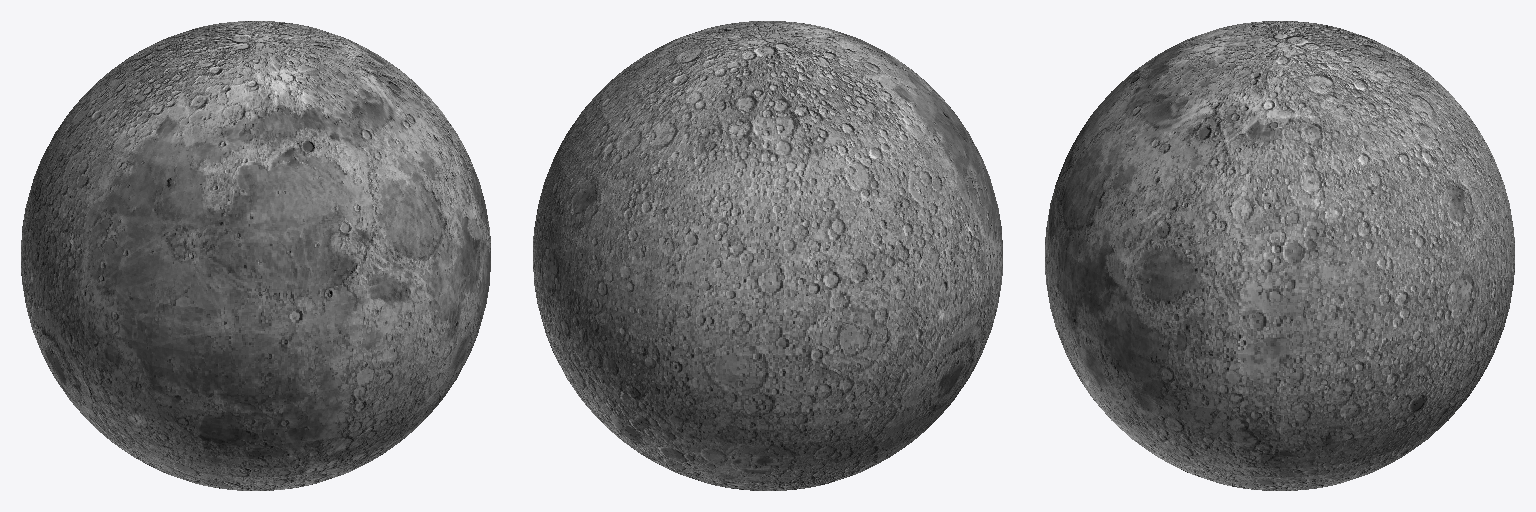
3 renders of one model, left to right at view 1: azimuth 30°, elevation 25°; view 2: azimuth 150°, elevation 25°; view 3: azimuth 270°, elevation 25°, orthographic.
Visible parts, largest first — view 1: Sphere001; view 2: Sphere001; view 3: Sphere001.
Boxes of the visible parts, x1,y1,x2,y2 form: Sphere001: [21, 21, 490, 490]; Sphere001: [533, 21, 1002, 490]; Sphere001: [1045, 21, 1514, 490].
Size of the model in its own units: 2.7 by 2.7 by 2.7.
1 materials, 1 textured.